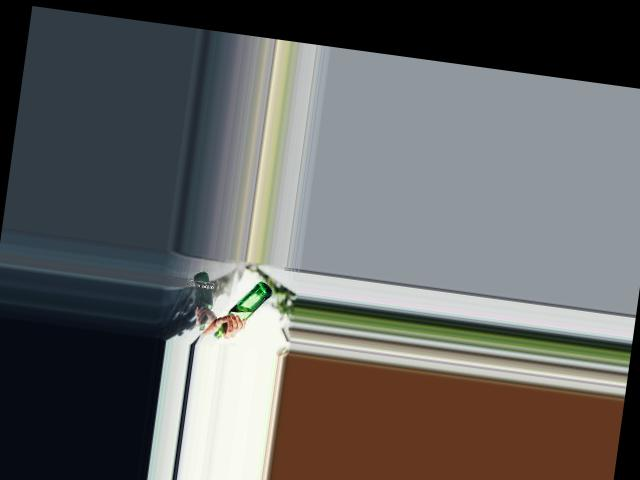beer: (212, 276, 273, 343)
